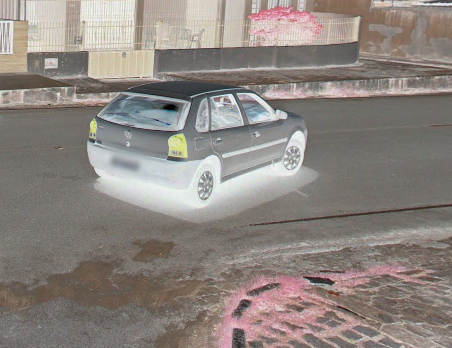car: (83, 77, 311, 210)
